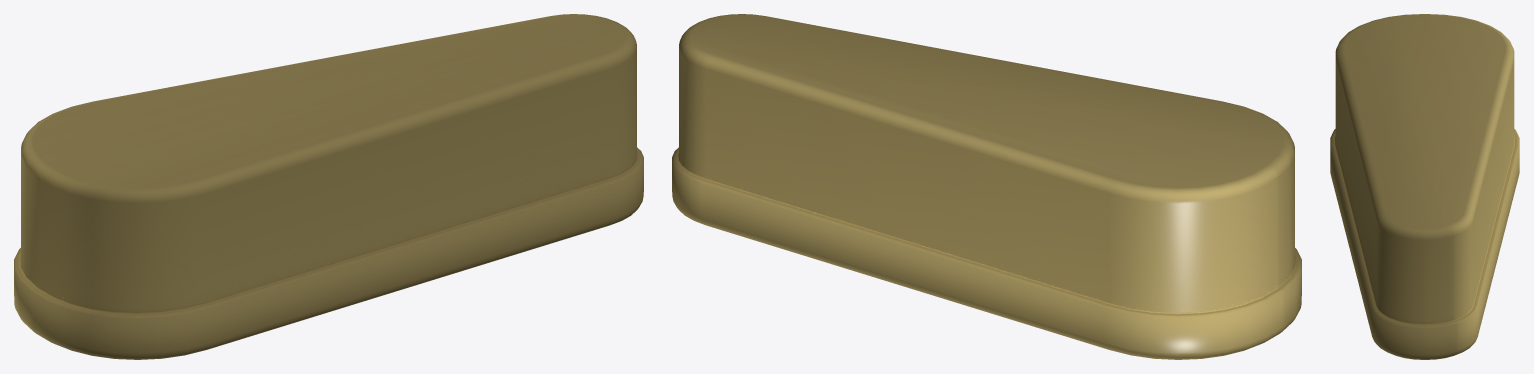
File: vault-breakers-flipper-real.glb
3 views of the same model, side by side, from view 1: azimuth 30°, elevation 25°; view 2: azimuth 150°, elevation 25°; view 3: azimuth 270°, elevation 25° (orthographic). The views are drawn at different scales.
Visible parts, largest first — view 1: flipper; view 2: flipper; view 3: flipper.
Boxes of the visible parts, x1,y1,x2,y2 form: flipper: (14, 14, 643, 359); flipper: (672, 14, 1301, 359); flipper: (1330, 14, 1519, 359).
Bounding box in the file's own units: 5.23 × 1.39 × 1.86.
1 material, 1 textured.
